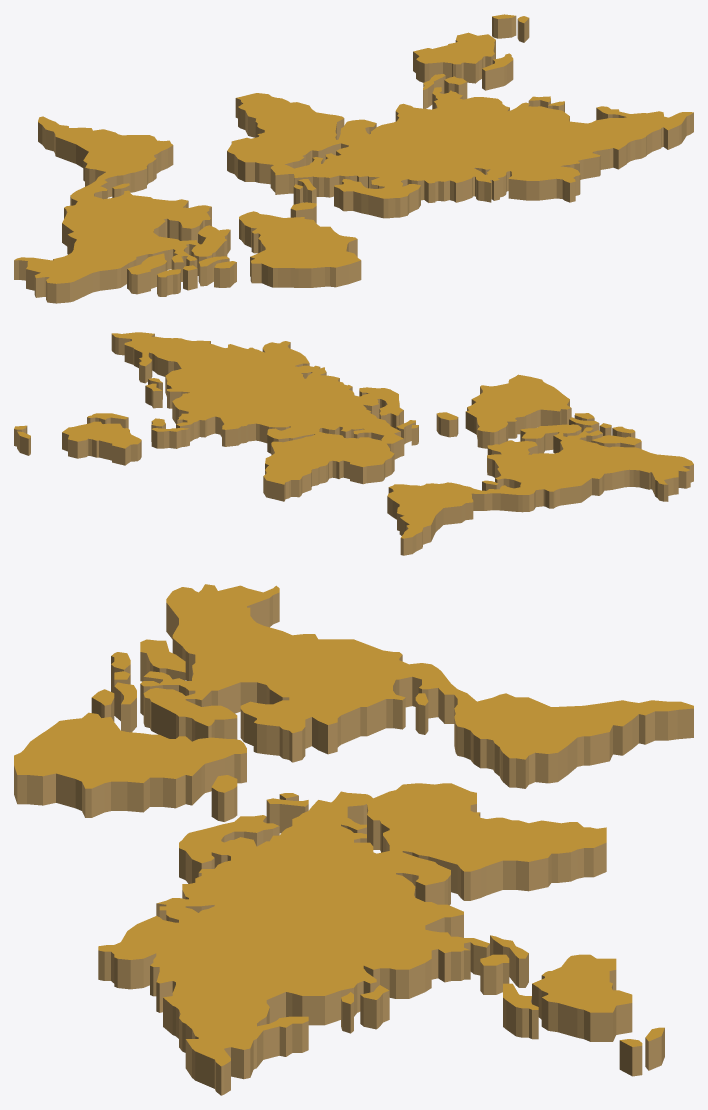
The model's file is WORLDMAP.glb.
3 views of the same model, one above another, from view 1: azimuth 30°, elevation 25°; view 2: azimuth 150°, elevation 25°; view 3: azimuth 270°, elevation 25° (orthographic). The views are drawn at different scales.
Visible parts, largest first — view 1: _0; view 2: _0; view 3: _0.
Boxes of the visible parts, box(x1,y1,x2,y2) form: _0: box(14, 14, 693, 303); _0: box(14, 332, 693, 555); _0: box(14, 584, 693, 1095).
Size of the model in its own units: 8 by 0.227 by 4.77.
